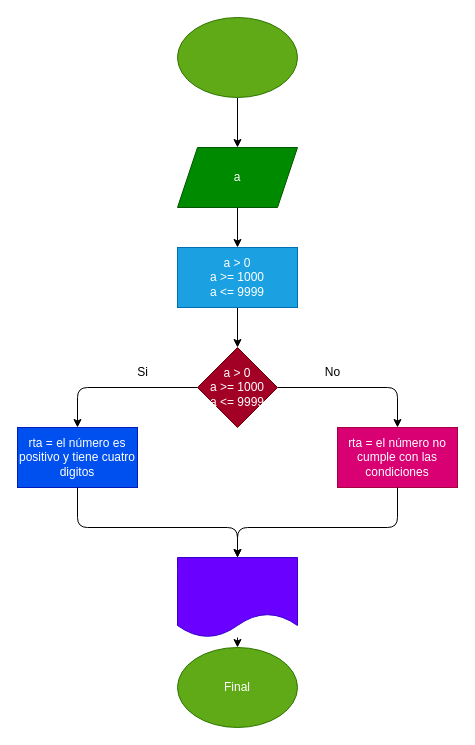
The diagram is 475 pixels wide and 745 high, and some of its shapes have lost their labels. The box of each missing label's shape, as (x1, y1, x2, y2) in pixels:
Inicio: (176, 16, 298, 98)
rta: (176, 556, 298, 638)
